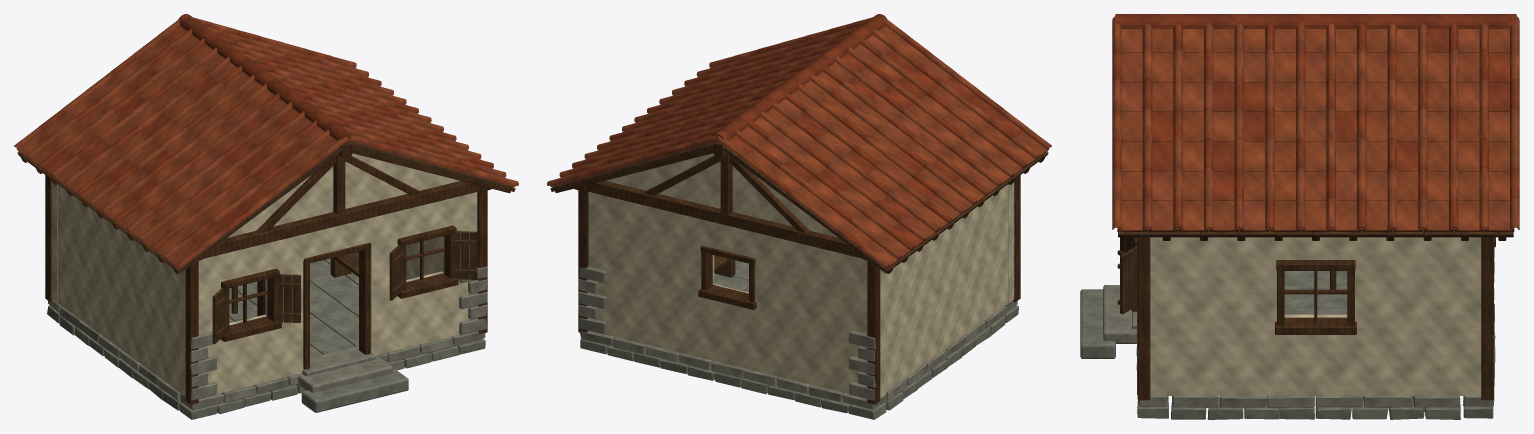
The model's file is frontier_house.glb.
3 renders of one model, left to right at view 1: azimuth 30°, elevation 25°; view 2: azimuth 150°, elevation 25°; view 3: azimuth 270°, elevation 25°, orthographic. The views are drawn at different scales.
Visible parts, largest first — view 1: frontier_house_02, frontier_house_05, frontier_house_07, frontier_house_03, frontier_house_06, frontier_house_01, frontier_house_00, frontier_house_04; view 2: frontier_house_02, frontier_house_05, frontier_house_07, frontier_house_06, frontier_house_03, frontier_house_00, frontier_house_01, frontier_house_04; view 3: frontier_house_05, frontier_house_02, frontier_house_07, frontier_house_06, frontier_house_03, frontier_house_01, frontier_house_00, frontier_house_04.
Part boxes in pixels (bbox=[...]): frontier_house_02: bbox=[51, 153, 477, 396]; frontier_house_05: bbox=[16, 23, 518, 268]; frontier_house_07: bbox=[38, 14, 493, 250]; frontier_house_03: bbox=[20, 141, 510, 404]; frontier_house_06: bbox=[14, 17, 506, 259]; frontier_house_01: bbox=[47, 258, 485, 419]; frontier_house_00: bbox=[47, 266, 487, 410]; frontier_house_04: bbox=[17, 141, 515, 343]; frontier_house_02: bbox=[588, 153, 1014, 396]; frontier_house_05: bbox=[559, 17, 1051, 268]; frontier_house_07: bbox=[571, 14, 1026, 250]; frontier_house_06: bbox=[547, 25, 1039, 268]; frontier_house_03: bbox=[555, 140, 1045, 404]; frontier_house_00: bbox=[578, 266, 1017, 409]; frontier_house_01: bbox=[580, 260, 1018, 419]; frontier_house_04: bbox=[550, 141, 1048, 277]; frontier_house_05: bbox=[1112, 16, 1519, 231]; frontier_house_02: bbox=[1150, 237, 1481, 395]; frontier_house_07: bbox=[1112, 14, 1519, 229]; frontier_house_06: bbox=[1112, 16, 1519, 231]; frontier_house_03: bbox=[1125, 227, 1506, 400]; frontier_house_01: bbox=[1080, 271, 1494, 419]; frontier_house_00: bbox=[1103, 247, 1495, 407]; frontier_house_04: bbox=[1117, 227, 1513, 314].
Bounding box in the file's own units: 6.94 × 5.03 × 6.31.
Materials: 9 (9 with a texture image).
